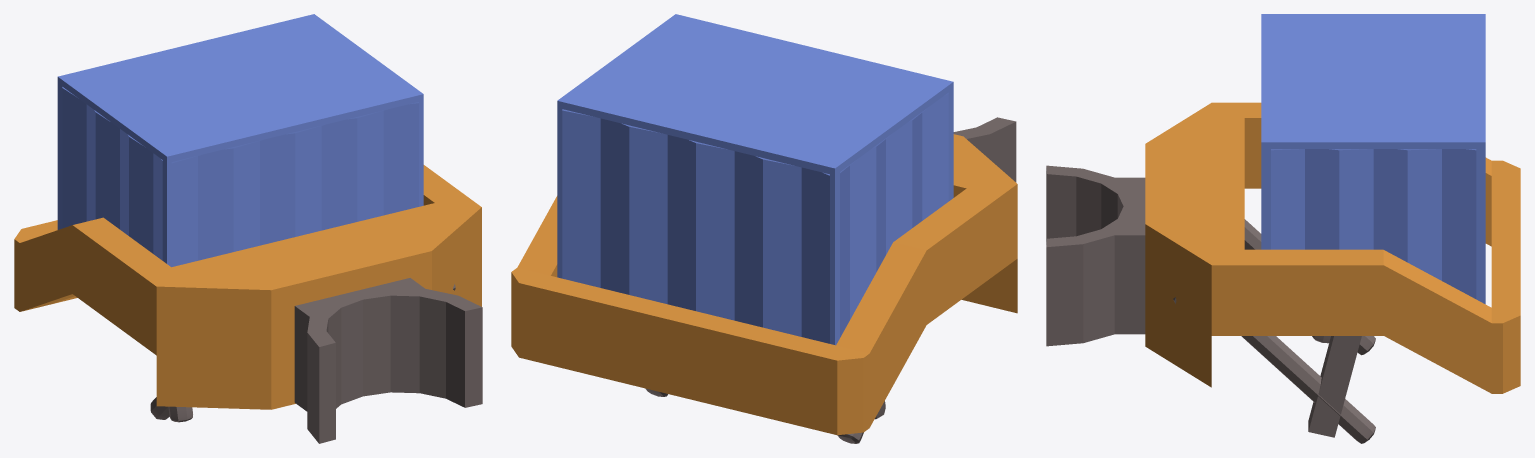
Rendered from StorageLevel1.fbx.
3 renders of one model, left to right at view 1: azimuth 30°, elevation 25°; view 2: azimuth 150°, elevation 25°; view 3: azimuth 270°, elevation 25°, orthographic. The views are drawn at different scales.
Visible parts, largest first — view 1: Storage; view 2: Storage; view 3: Storage.
Part boxes in pixels (left/top/right/bottom): Storage: left=14, top=14, right=482, bottom=443; Storage: left=511, top=14, right=1017, bottom=443; Storage: left=1046, top=14, right=1520, bottom=443.
Size of the model in its own units: 487 by 443 by 601.
